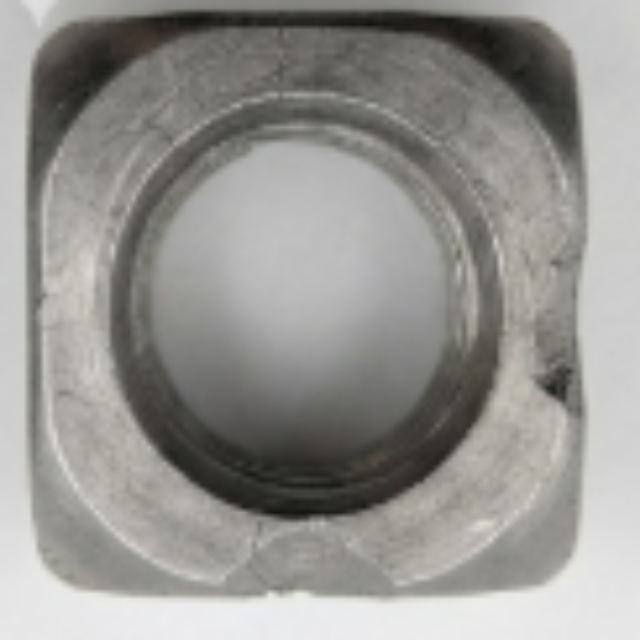defect: (519, 192, 598, 433), (205, 524, 408, 611)
